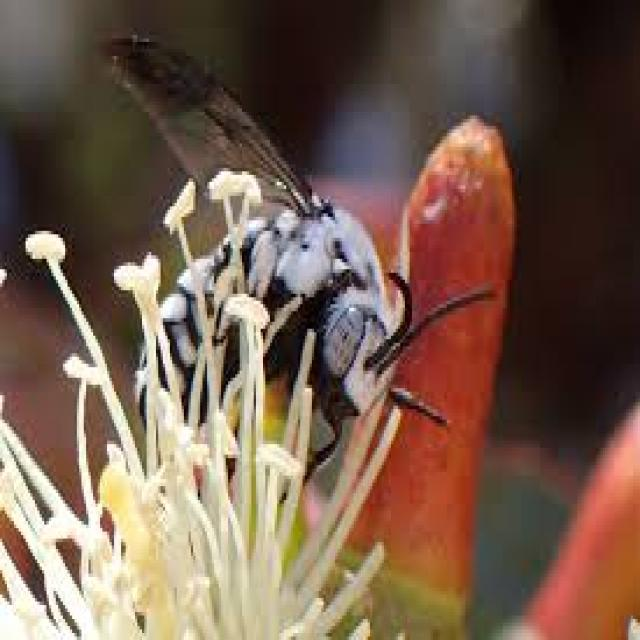Thyreus: (88, 23, 474, 458)
